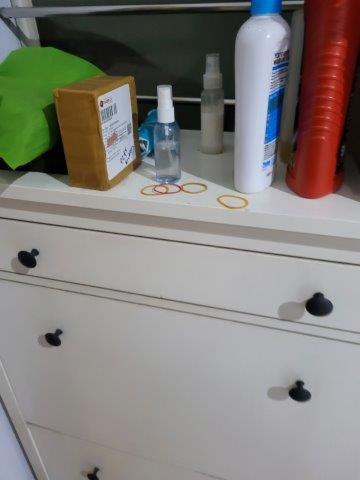karet: (216, 193, 248, 210), (142, 183, 168, 197), (154, 183, 182, 195), (179, 183, 208, 194)
